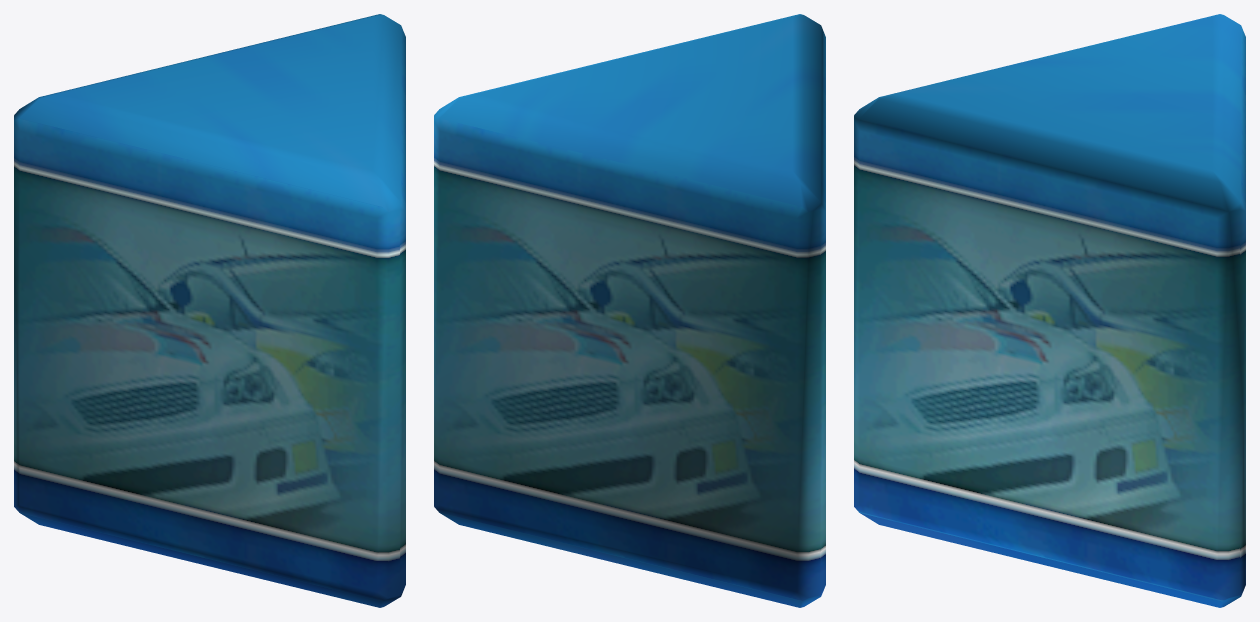
File: GTTouring.icn.obj
3 views of the same model, side by side, from view 1: azimuth 30°, elevation 25°; view 2: azimuth 150°, elevation 25°; view 3: azimuth 270°, elevation 25° (orthographic).
Size of the model in its own units: 3.35 by 3.6 by 2.94.
Materials: 1 (1 with a texture image).
